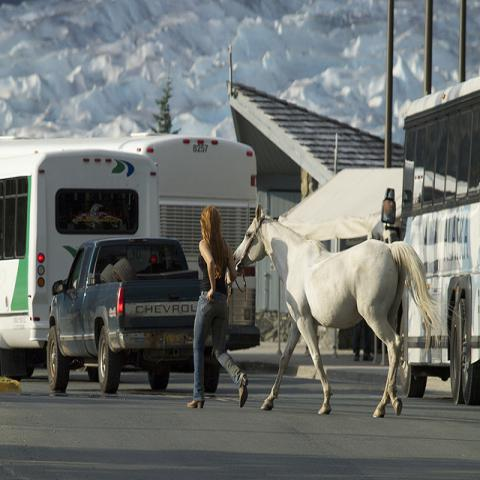bus: (57, 137, 261, 350), (1, 141, 161, 380), (380, 78, 479, 404)
truck: (45, 236, 201, 396)
